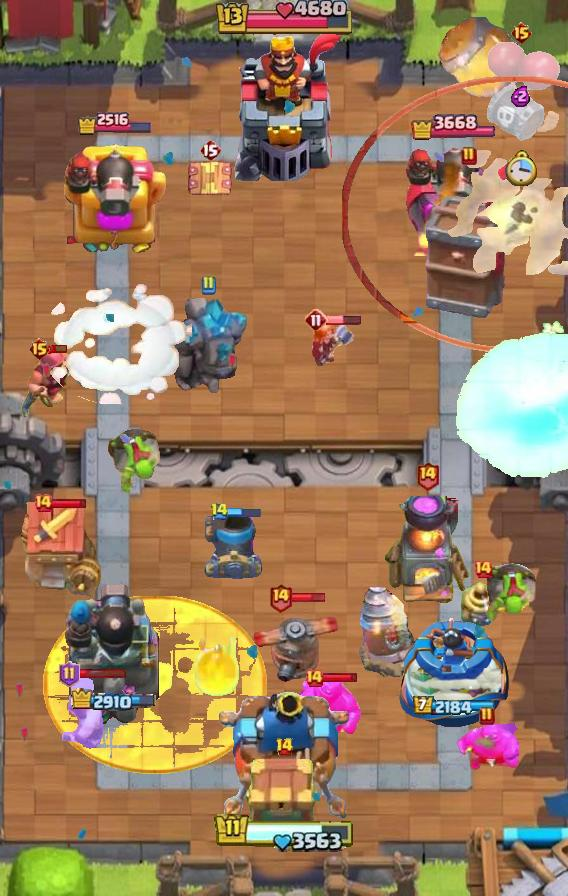bar-level: (105, 426, 163, 498), (483, 562, 537, 624)
bomb: (245, 758, 323, 846)
cannoneer-tower: (166, 298, 250, 396)
clock: (214, 814, 354, 855), (213, 0, 355, 38)
dark-prince: (253, 598, 341, 682)
dart-goblin: (422, 161, 516, 321)
dirt: (438, 15, 528, 103)
electro-spirit: (511, 85, 531, 107)
elixir: (505, 150, 539, 186)
emote: (77, 668, 127, 679), (51, 498, 88, 510), (326, 314, 362, 326), (226, 506, 261, 518), (322, 672, 359, 683), (290, 593, 325, 604), (48, 343, 68, 354)
fireball: (19, 346, 91, 420)
goblin-brawler: (186, 157, 234, 201)
goblin-drill: (459, 582, 507, 630)
hog-rider: (311, 319, 355, 369)
hunter: (383, 496, 471, 606)
king-tower: (223, 31, 345, 181), (219, 692, 349, 826)
magic-archer: (358, 586, 418, 678)
mega-knight: (452, 332, 568, 482)
mighty-miner: (54, 678, 110, 754)
musketeer: (204, 515, 264, 579)
phoenix-egg: (43, 596, 267, 774)
queen-tower: (395, 614, 514, 730)
royal-ghost: (342, 75, 568, 352)
royal-recruit-evolution: (482, 40, 560, 146)
selected: (411, 112, 495, 144), (70, 688, 157, 714), (75, 110, 152, 136), (413, 695, 496, 716)
sparky: (15, 501, 101, 599)
text: (268, 583, 293, 614), (415, 461, 440, 491), (304, 308, 328, 332), (510, 21, 533, 45), (29, 337, 52, 361), (59, 661, 80, 687), (199, 138, 221, 162), (33, 493, 53, 513), (473, 559, 493, 579), (304, 668, 324, 688), (274, 737, 294, 757), (210, 503, 230, 522), (461, 146, 477, 166), (200, 275, 216, 295), (479, 706, 495, 726)
tornado: (299, 675, 361, 735), (455, 722, 519, 772)
tower-bar: (63, 579, 165, 731), (60, 138, 168, 256), (404, 138, 505, 256)
valkyrie: (187, 630, 243, 700)
wall-breaker: (40, 282, 192, 404)
